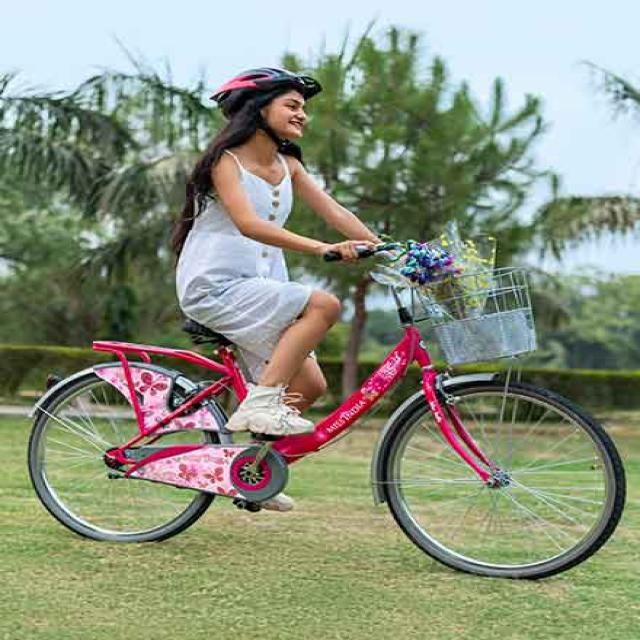bicycle: (28, 69, 626, 577)
